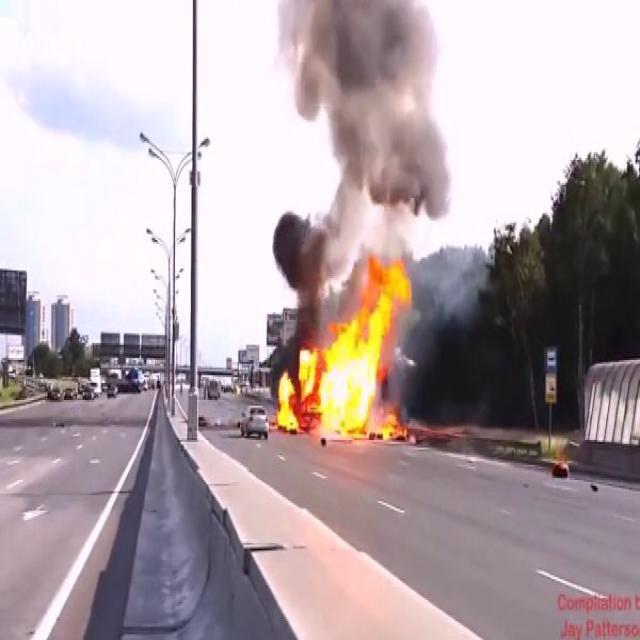fire: (273, 255, 414, 438)
